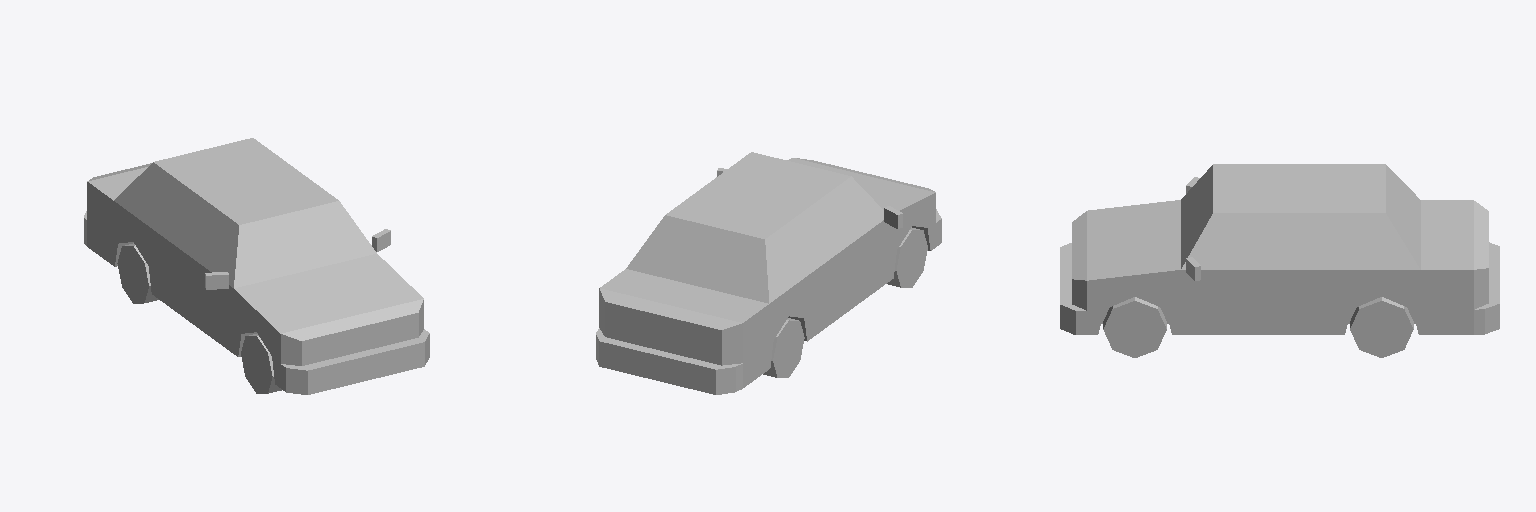
Rendered from sedan_01_green.obj.
3 views of the same model, side by side, from view 1: azimuth 30°, elevation 25°; view 2: azimuth 150°, elevation 25°; view 3: azimuth 270°, elevation 25° (orthographic).
Visible parts, largest first — view 1: Sedan_01_Green, Wheel_RR, Wheel_FR; view 2: Sedan_01_Green, Wheel_FR, Wheel_RR; view 3: Sedan_01_Green, Wheel_FL, Wheel_RL.
Part boxes in pixels (left/top/right/bottom): Sedan_01_Green: left=84, top=138, right=429, bottom=394; Wheel_RR: left=117, top=243, right=158, bottom=303; Wheel_FR: left=241, top=334, right=281, bottom=393; Sedan_01_Green: left=596, top=152, right=941, bottom=394; Wheel_FR: left=887, top=227, right=927, bottom=287; Wheel_RR: left=763, top=318, right=804, bottom=377; Sedan_01_Green: left=1060, top=164, right=1499, bottom=334; Wheel_FL: left=1103, top=297, right=1166, bottom=357; Wheel_RL: left=1350, top=297, right=1413, bottom=357.
Size of the model in its own units: 0.9785 by 0.6816 by 2.02.